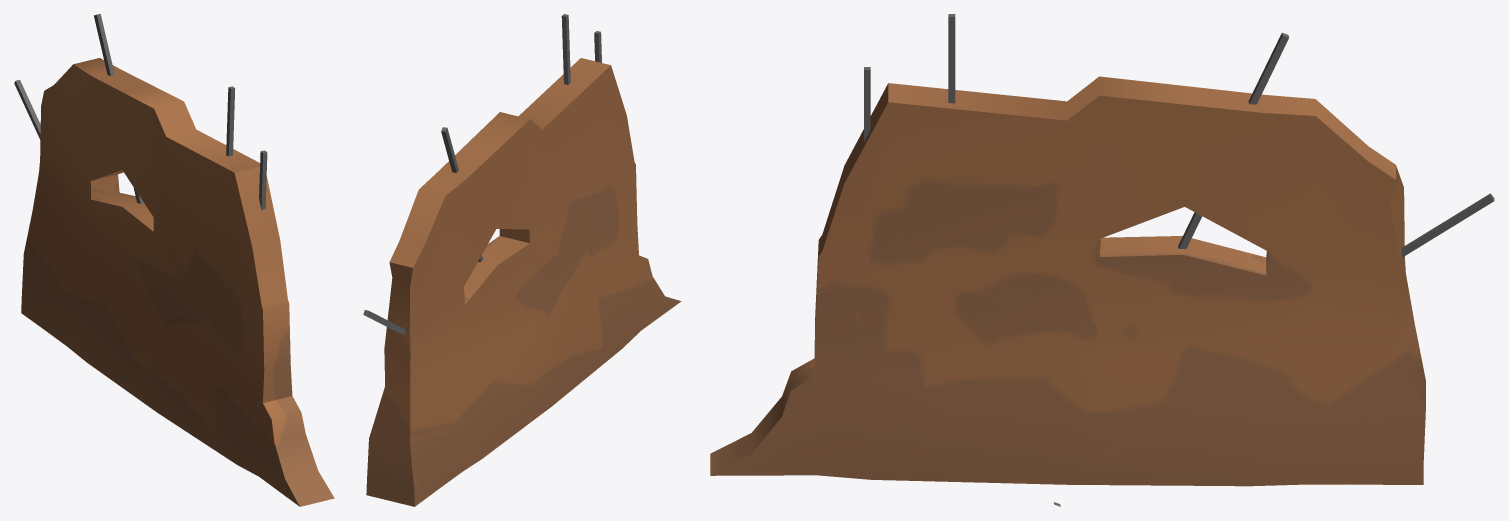
File: Mur1.fbx
The picture shows the model from 3 angles, left to right: view 1: azimuth 30°, elevation 25°; view 2: azimuth 150°, elevation 25°; view 3: azimuth 270°, elevation 25°; orthographic projection. The views are drawn at different scales.
Parts seen in each view (by area): view 1: Cube.079, Cube.077, Cube.075, Cube.078, Cube.076; view 2: Cube.079, Cube.075, Cube.077; view 3: Cube.079, Cube.077, Cube.078.
Part boxes in pixels (x1,y1,x2,y2): Cube.079: (21, 58, 334, 506); Cube.077: (94, 14, 143, 204); Cube.075: (226, 86, 235, 156); Cube.078: (14, 80, 40, 139); Cube.076: (259, 150, 267, 209); Cube.079: (366, 58, 681, 506); Cube.075: (561, 14, 570, 84); Cube.077: (441, 127, 482, 262); Cube.079: (710, 76, 1425, 486); Cube.077: (1053, 32, 1289, 506); Cube.078: (1401, 193, 1494, 257).
Bounding box in the file's own units: 86.57 × 619 × 899.
